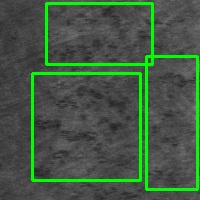rolled-in_scale: (32, 73, 140, 180), (146, 56, 197, 189), (46, 3, 152, 64)
